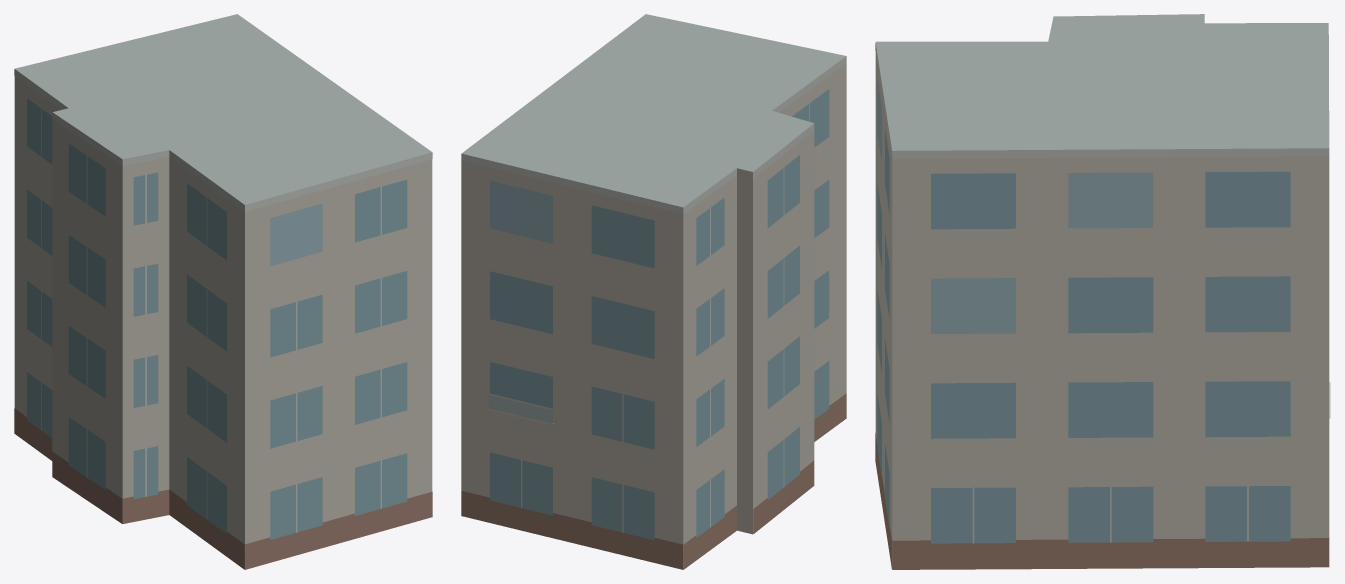
File: survey-upis-32706658.glb
3 views of the same model, side by side, from view 1: azimuth 30°, elevation 25°; view 2: azimuth 150°, elevation 25°; view 3: azimuth 270°, elevation 25° (orthographic). The views are drawn at different scales.
Visible parts, largest first — view 1: survey-upis-32706658.tmp; view 2: survey-upis-32706658.tmp; view 3: survey-upis-32706658.tmp.
Boxes of the visible parts, x1,y1,x2,y2 form: survey-upis-32706658.tmp: (14, 14, 432, 569); survey-upis-32706658.tmp: (461, 14, 846, 569); survey-upis-32706658.tmp: (875, 14, 1330, 569).
Size of the model in its own units: 8.97 by 12.8 by 12.61.
